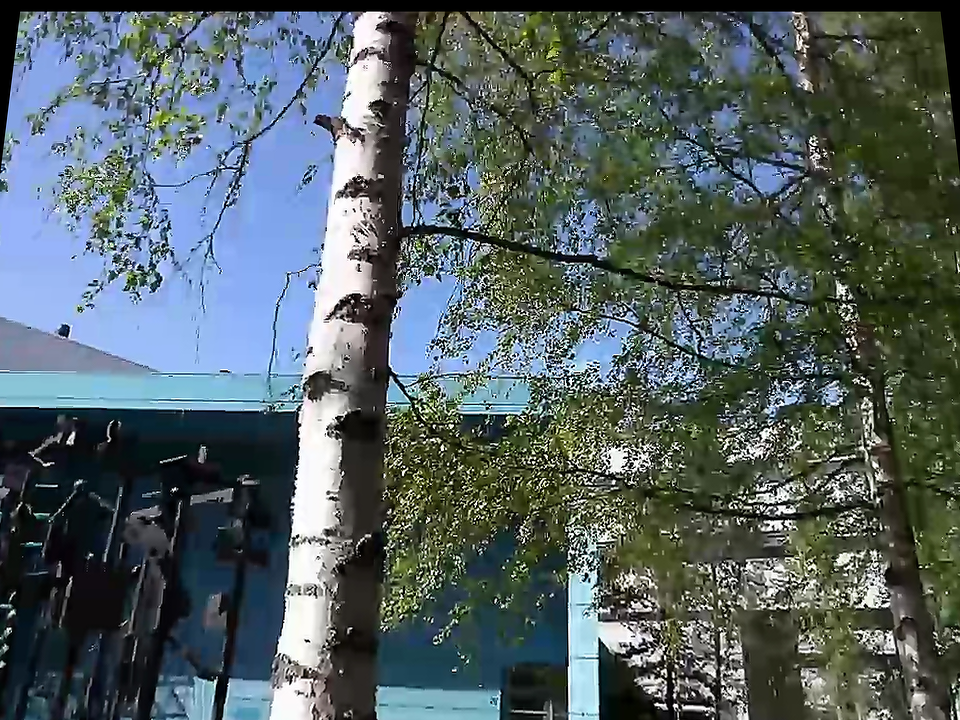branch: (408, 214, 820, 315), (688, 497, 872, 523)
trunk: (257, 354, 392, 714), (284, 129, 429, 379), (325, 11, 430, 145)
